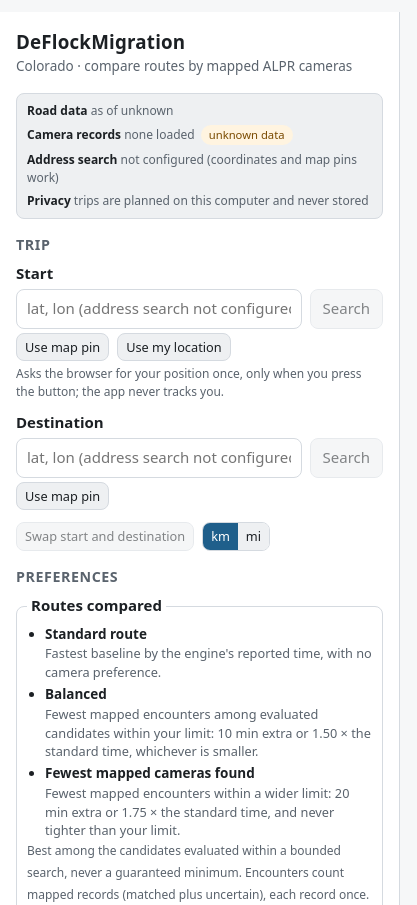
Test: Planner experience (M6) › cancelling is an explicit state and the late answer is ignored
Check: the text "Standard route" is shown, box [45, 625, 147, 643]
Type "39.7530, -105.0002" into the field labelled "Start" at [159, 309], box [16, 289, 302, 329]
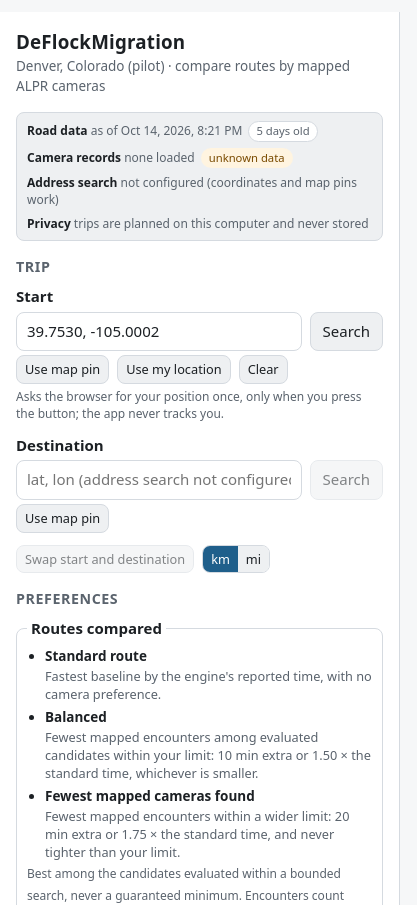
Submit the form named "Start", box [16, 312, 383, 351]
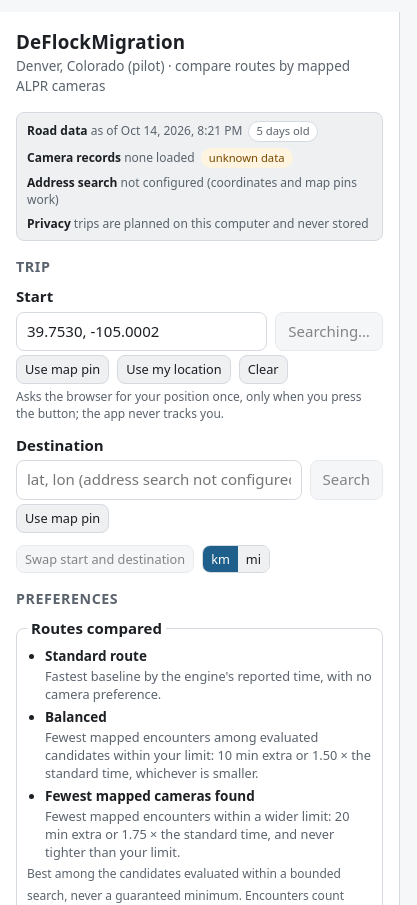
Type "39.7503, -104.9500" into the field labelled "Destination" at [159, 480], box [16, 460, 302, 500]
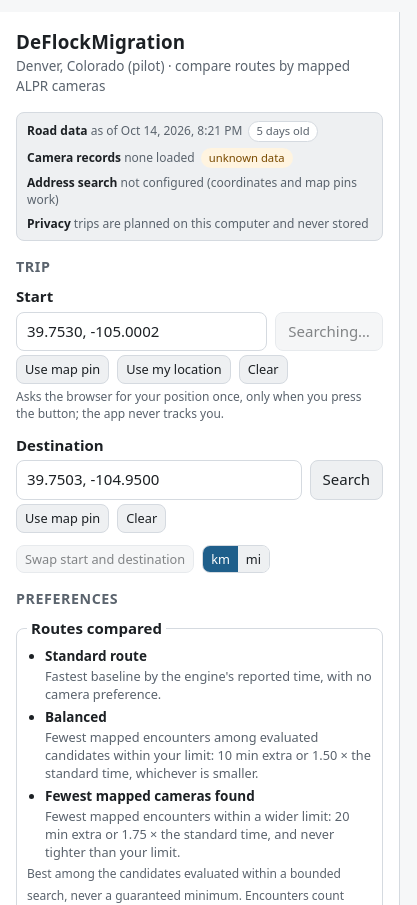
Submit the form named "Destination", box [16, 460, 383, 500]
(page scrolled)
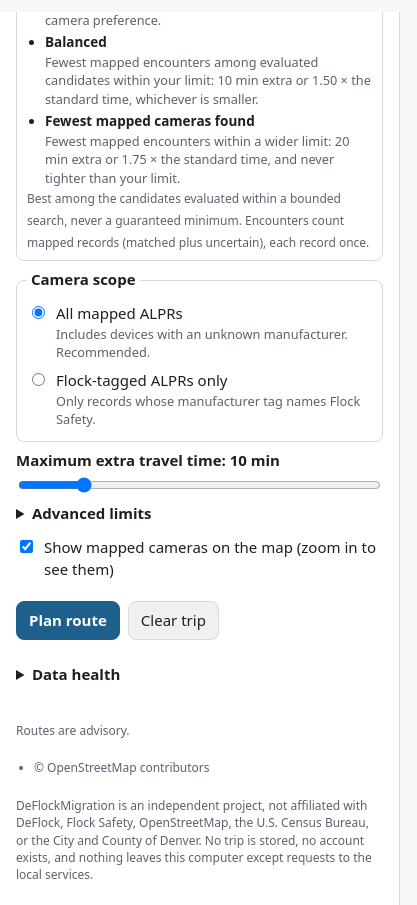
Check: the button with test id "plan-button" is enabled
Click the button with test id "plan-button" at [68, 620], box [16, 600, 120, 640]
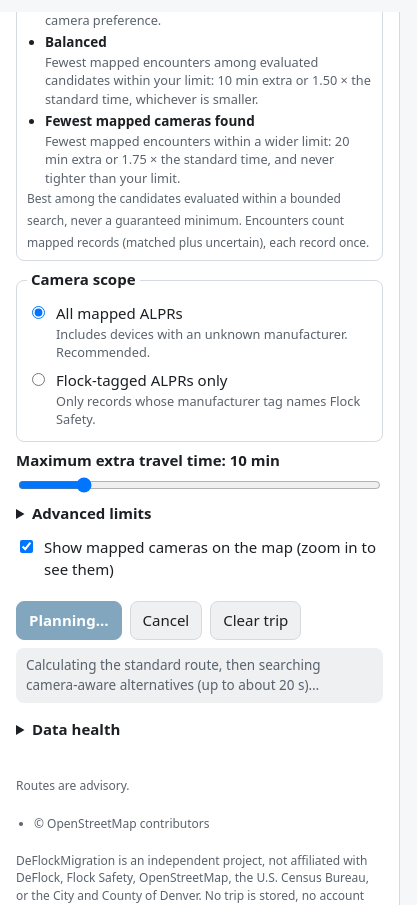
Check: the button with test id "cancel-button" is shown
Click the button with test id "cancel-button" at [166, 620], box [130, 600, 202, 640]
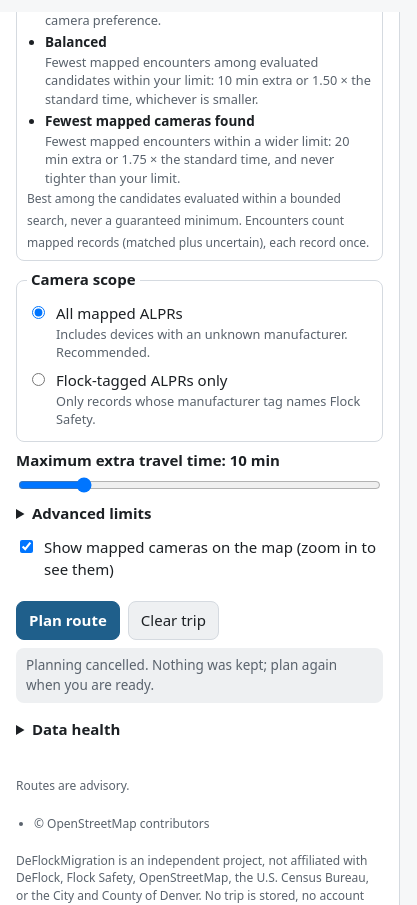
Check: the message "Planning cancelled. Nothing was kept; plan again when you are ready." is shown, box [16, 648, 383, 703]
